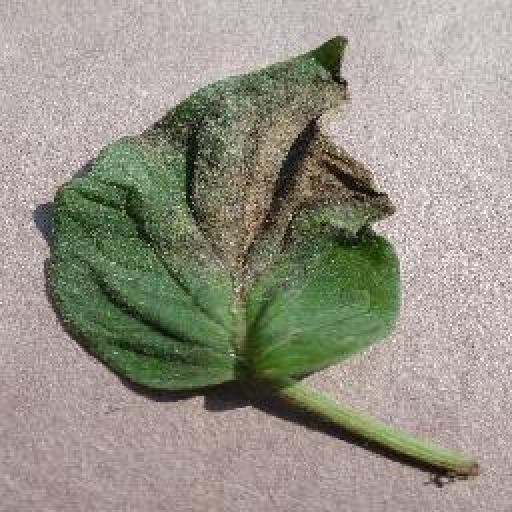Late Blight: (44, 33, 400, 395)
